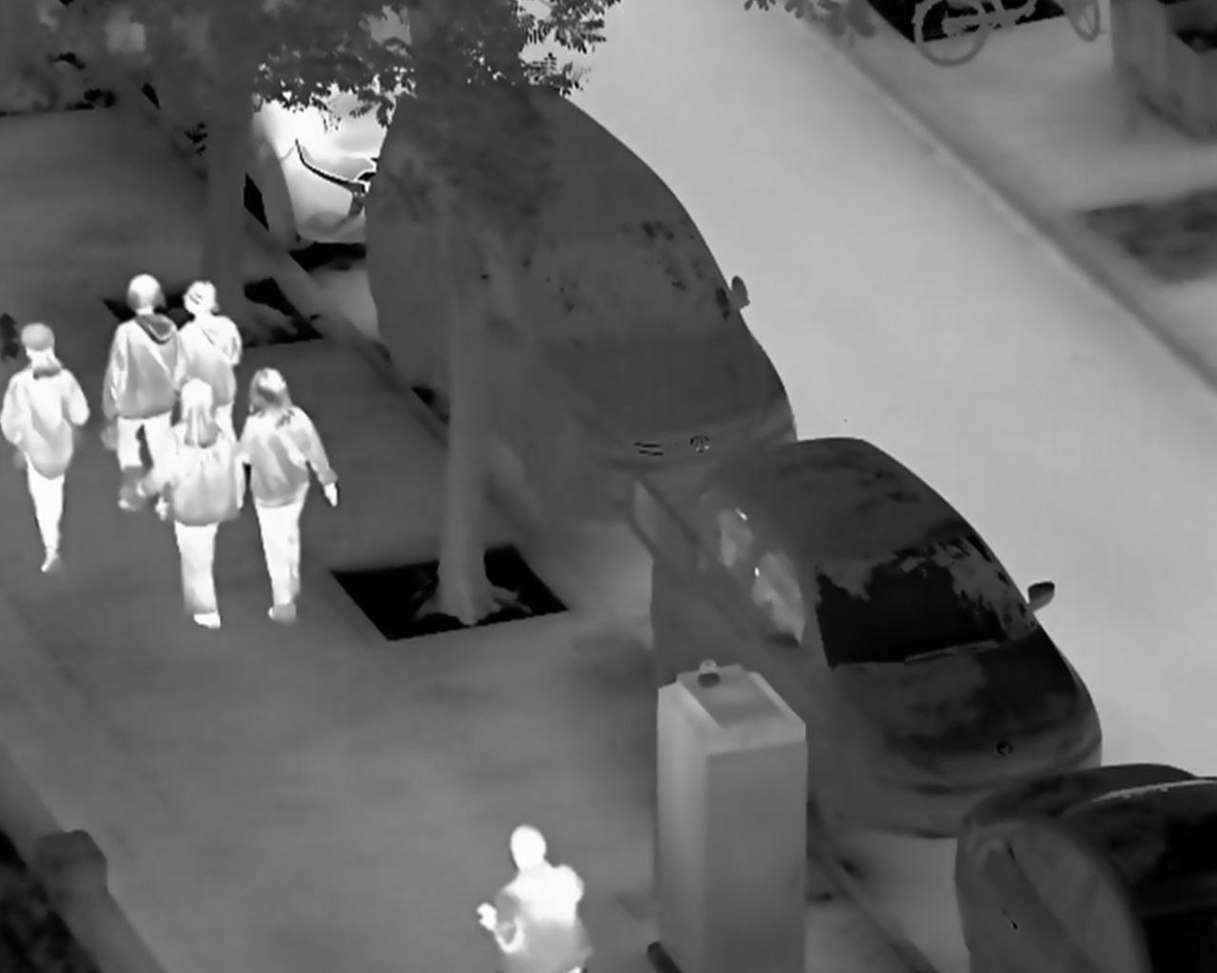person: (113, 378, 245, 632), (233, 366, 343, 625), (97, 272, 188, 520), (474, 819, 597, 973), (170, 276, 241, 447)
